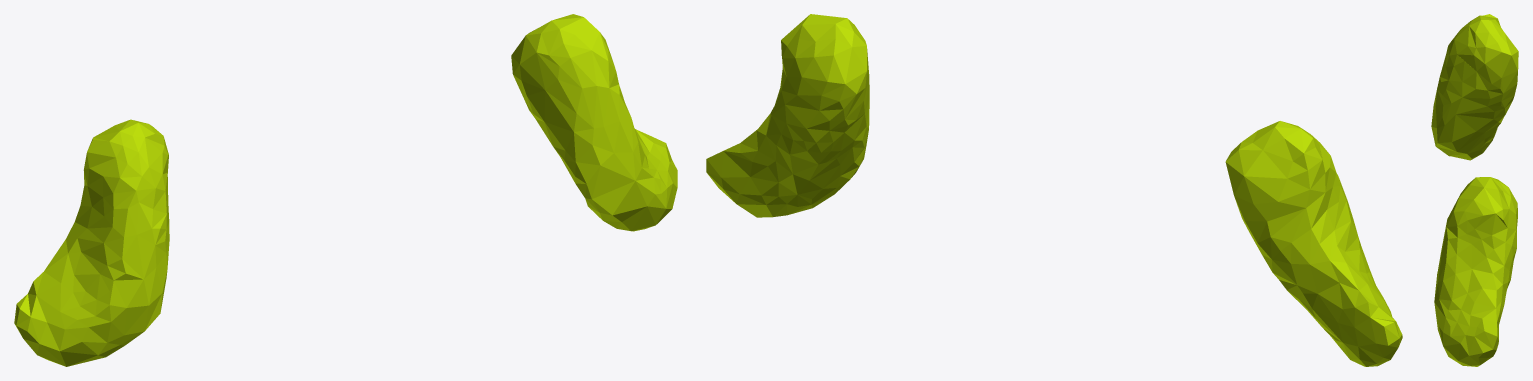
File: 188-Tho-temporal area TH, occipital part-('0.8431', '1.0000', '0.0000').obj
The picture shows the model from 3 angles, left to right: view 1: azimuth 30°, elevation 25°; view 2: azimuth 150°, elevation 25°; view 3: azimuth 270°, elevation 25°; orthographic projection. The views are drawn at different scales.
Bounding box in the file's own units: 160 × 50.7 × 24.42.
